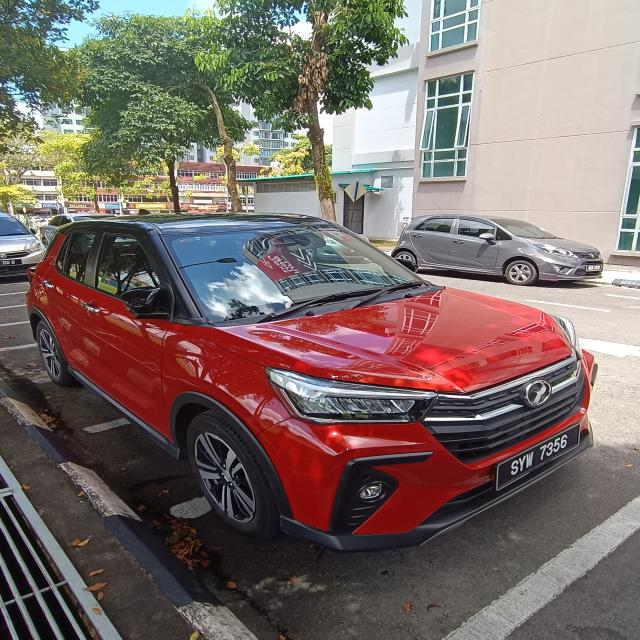PeroduaAtiva: (24, 209, 600, 552)
